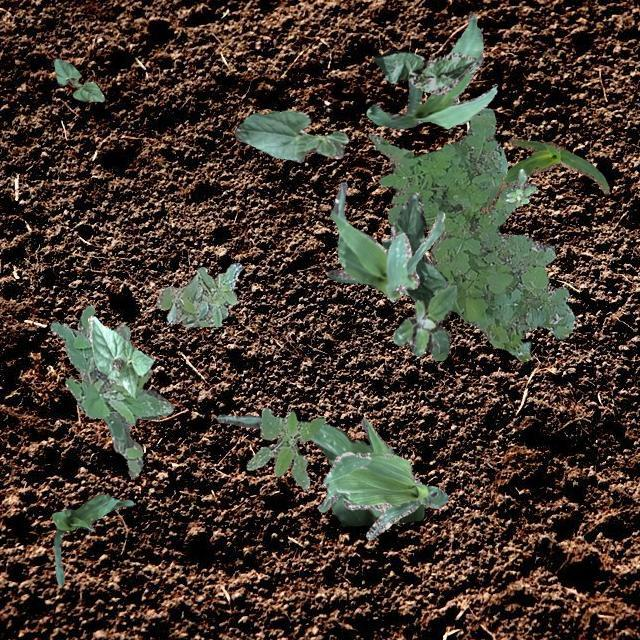crop: (215, 414, 424, 524), (366, 12, 496, 128), (326, 182, 444, 300), (318, 451, 447, 538), (480, 138, 608, 212), (380, 192, 448, 306), (51, 494, 133, 584), (234, 110, 348, 162), (86, 314, 154, 396), (374, 48, 476, 94), (52, 58, 104, 100)
weed: (368, 107, 574, 360), (49, 304, 172, 476), (246, 406, 324, 489), (154, 262, 240, 326), (391, 282, 456, 359), (504, 168, 534, 206)
